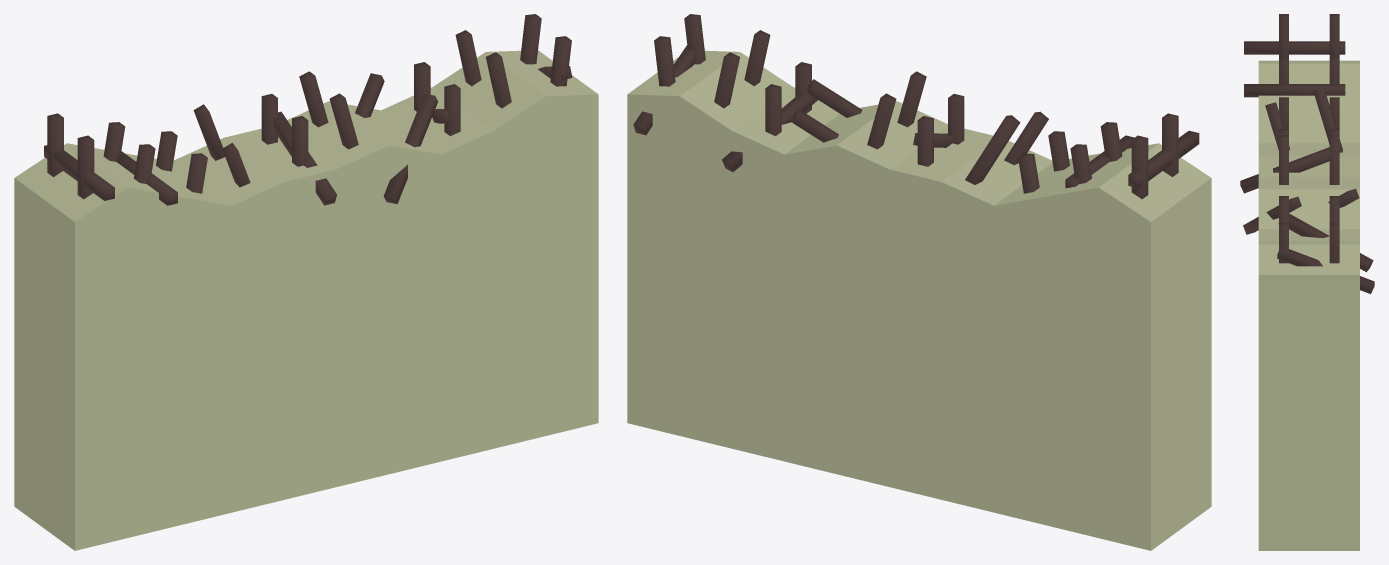
The model's file is dungeon_wall.glb.
3 renders of one model, left to right at view 1: azimuth 30°, elevation 25°; view 2: azimuth 150°, elevation 25°; view 3: azimuth 270°, elevation 25°, orthographic. The views are drawn at different scales.
Visible parts, largest first — view 1: Cube; view 2: Cube; view 3: Cube.
Boxes of the visible parts, x1,y1,x2,y2 form: Cube: (14, 14, 598, 550); Cube: (627, 14, 1211, 550); Cube: (1240, 14, 1374, 550).
Bounding box in the file's own units: 5 × 3.6 × 1.33.
1 material, 1 textured.
